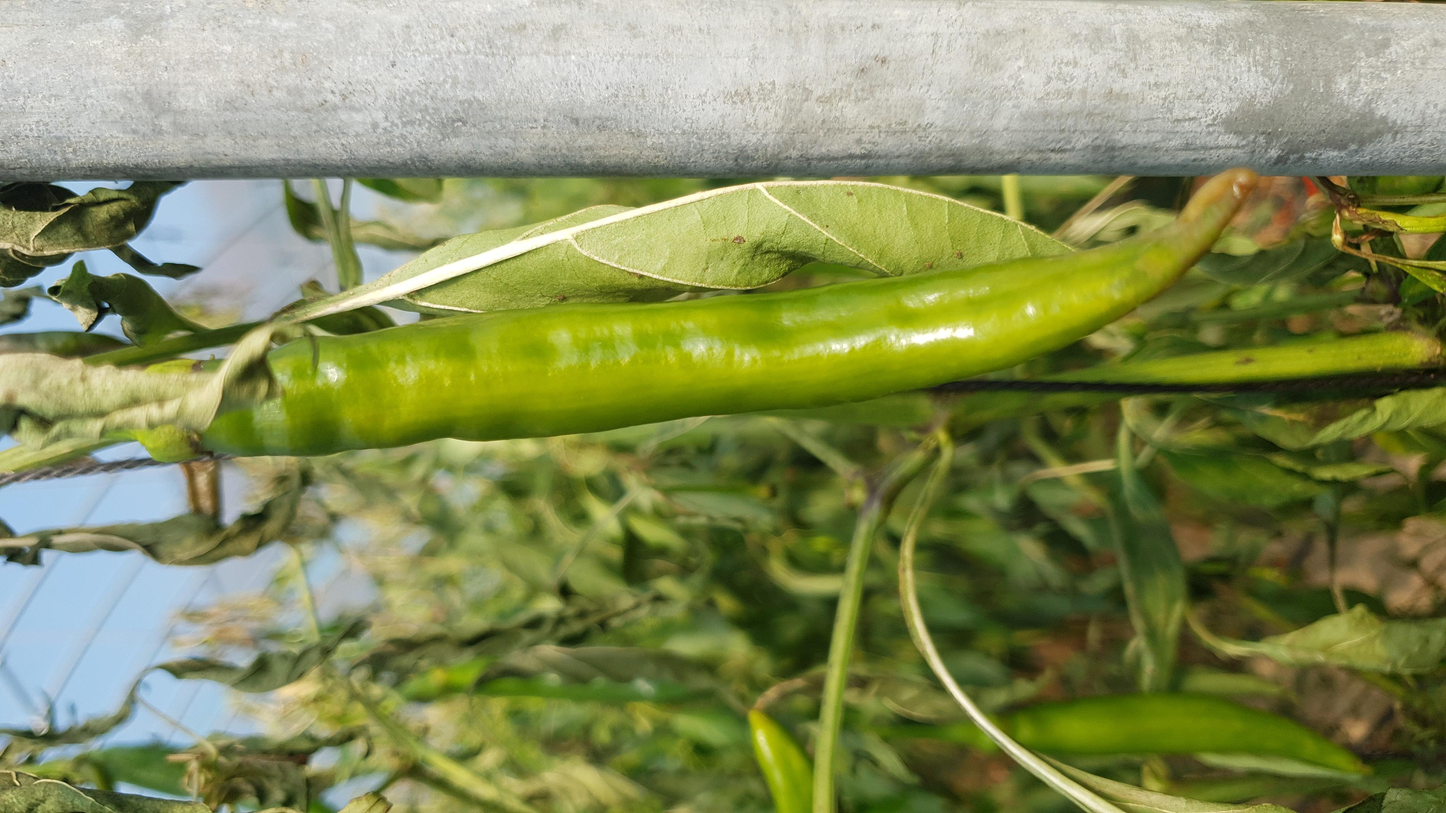Buah Cabai Sehat: (117, 160, 1269, 467)
